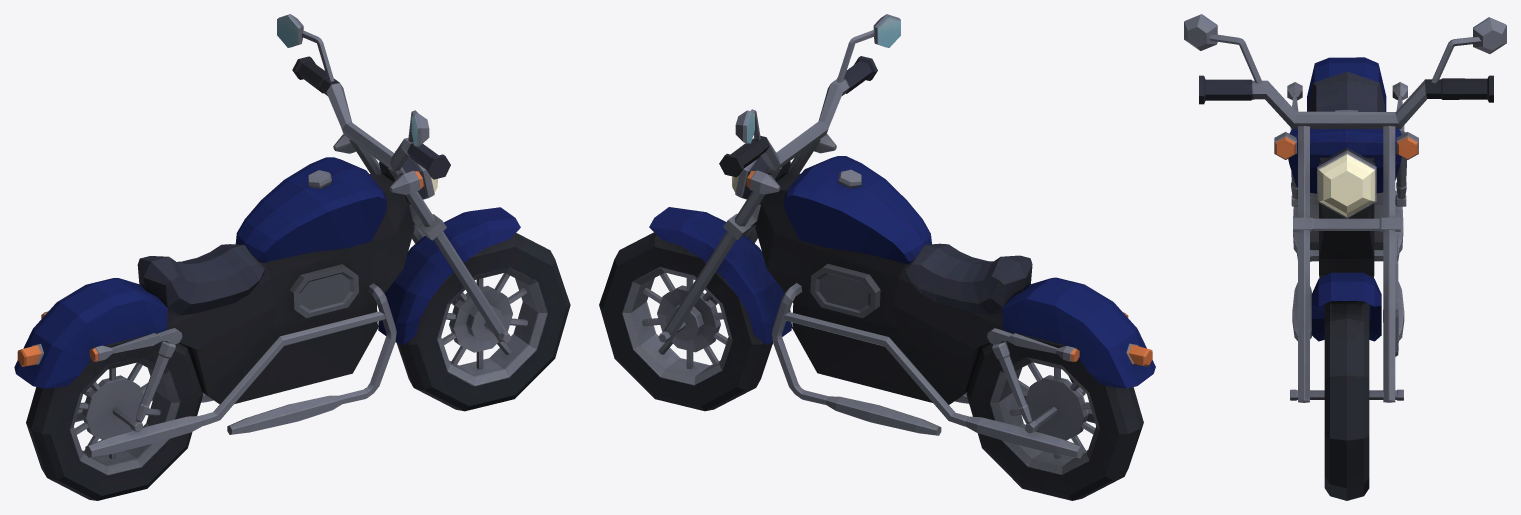
File: motorcycle.glb
3 views of the same model, side by side, from view 1: azimuth 30°, elevation 25°; view 2: azimuth 150°, elevation 25°; view 3: azimuth 270°, elevation 25° (orthographic). The views are drawn at different scales.
Parts seen in each view (by area): view 1: Motorcycle_mesh; view 2: Motorcycle_mesh; view 3: Motorcycle_mesh.
Part boxes in pixels (<box>): Motorcycle_mesh: <box>14,14,570,500</box>; Motorcycle_mesh: <box>599,14,1155,500</box>; Motorcycle_mesh: <box>1184,14,1506,500</box>.
Size of the model in its own units: 14.51 by 9.45 by 6.86.
Materials: 1 (1 with a texture image).
